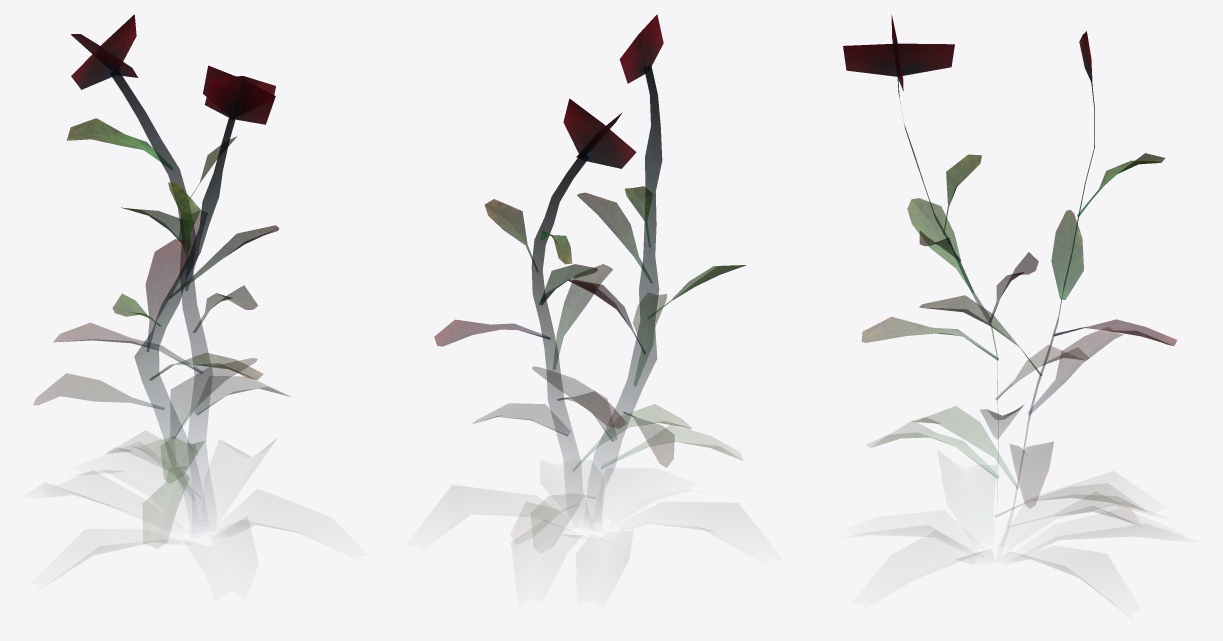
File: poppies.glb
The picture shows the model from 3 angles, left to right: view 1: azimuth 30°, elevation 25°; view 2: azimuth 150°, elevation 25°; view 3: azimuth 270°, elevation 25°; orthographic projection. The views are drawn at different scales.
Parts seen in each view (by area): view 1: SM_vmcobd0ja_VarH_LOD1, SM_vmcobd0ja_VarA_LOD1; view 2: SM_vmcobd0ja_VarH_LOD1, SM_vmcobd0ja_VarA_LOD1; view 3: SM_vmcobd0ja_VarH_LOD1, SM_vmcobd0ja_VarA_LOD1.
Boxes of the visible parts, <box> form: SM_vmcobd0ja_VarH_LOD1: <box>33,65,293,551</box>; SM_vmcobd0ja_VarA_LOD1: <box>54,14,290,496</box>; SM_vmcobd0ja_VarH_LOD1: <box>531,14,746,552</box>; SM_vmcobd0ja_VarA_LOD1: <box>434,98,691,505</box>; SM_vmcobd0ja_VarH_LOD1: <box>843,14,1147,593</box>; SM_vmcobd0ja_VarA_LOD1: <box>913,31,1176,527</box>.
Size of the model in its own units: 0.4284 by 0.67 by 0.4449.
Materials: 1 (1 with a texture image).
